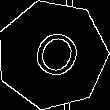O_SW: (22, 23, 83, 87)
